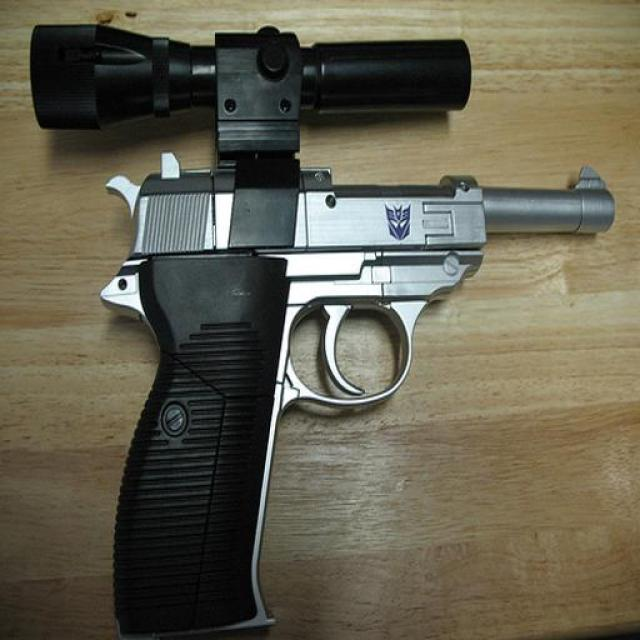pistol: (101, 146, 616, 637)
